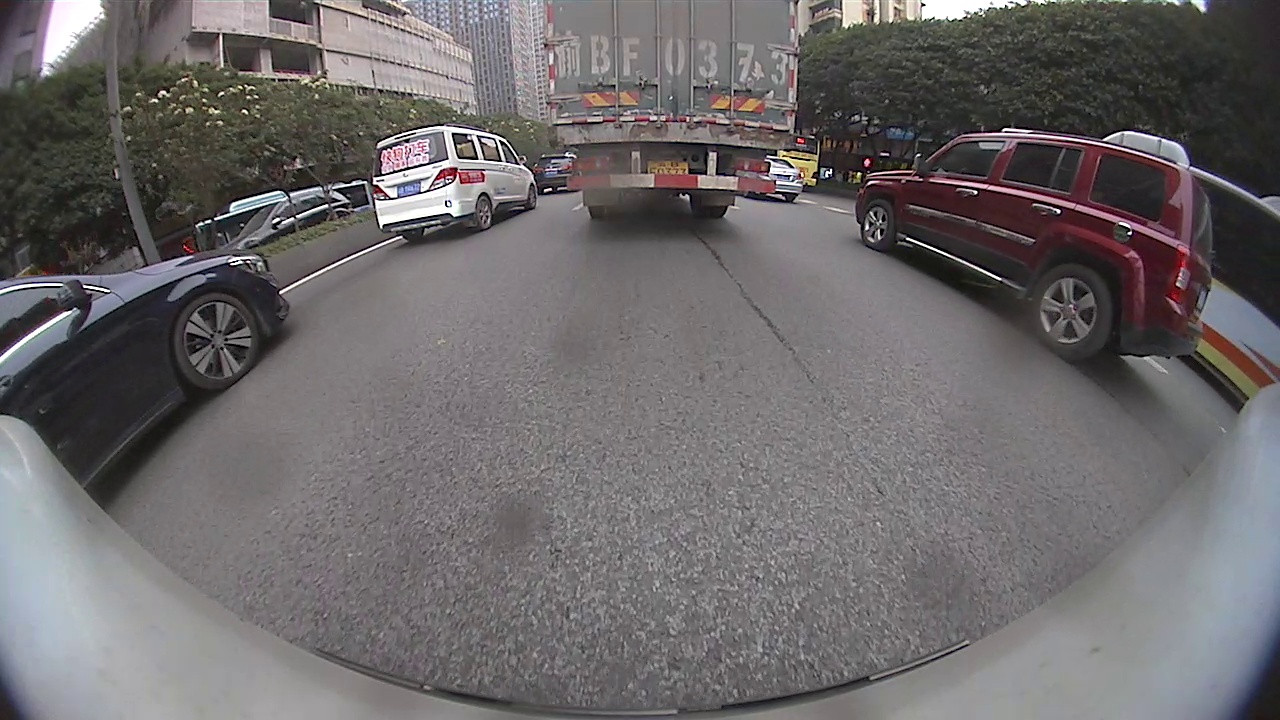bus: (1098, 134, 1277, 399)
car: (853, 130, 1215, 364), (1, 251, 292, 492), (370, 121, 540, 242), (740, 153, 802, 200), (531, 155, 581, 193)
front: (173, 292, 265, 390), (860, 197, 899, 253)
rear: (1029, 260, 1116, 364), (470, 194, 494, 232)
truck: (541, 0, 798, 221)
